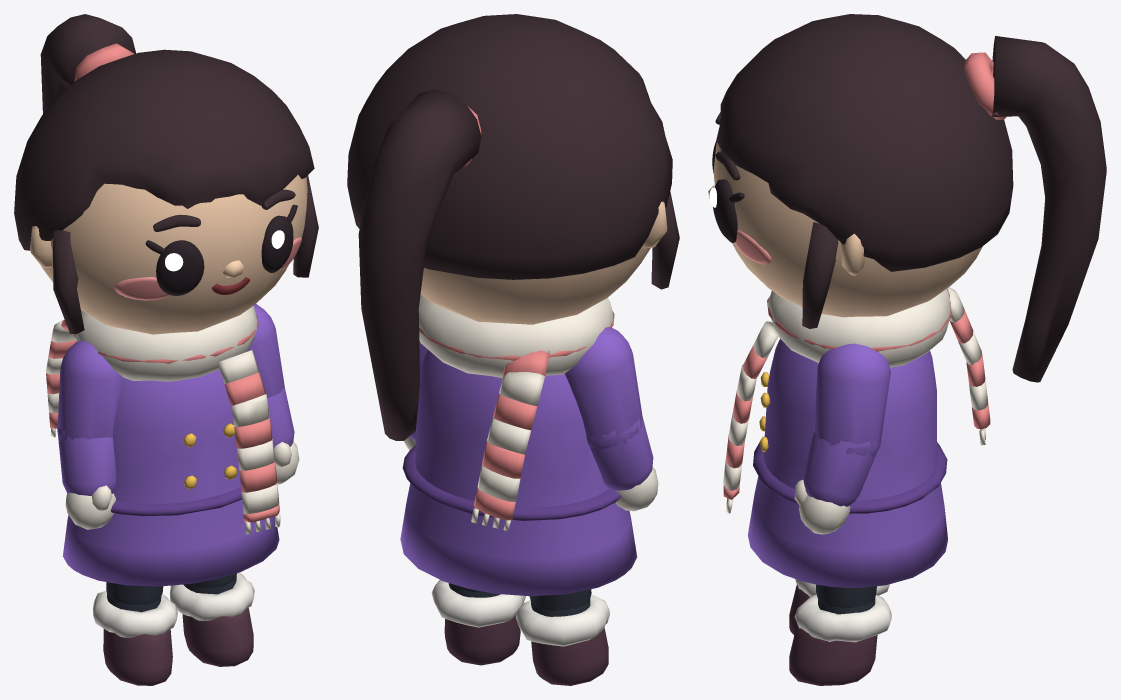
The model's file is npc_teen_girl.glb.
3 views of the same model, side by side, from view 1: azimuth 30°, elevation 25°; view 2: azimuth 150°, elevation 25°; view 3: azimuth 270°, elevation 25° (orthographic). The views are drawn at different scales.
Visible parts, largest first — view 1: head_S_body, spine_S_body, chest_S_body, knee_R_S_body, knee_L_S_body, uarm_R, head_S_eye_dot, farm_R, uarm_L, hand_R_S_body, head_S_cheek_blush, farm_L (+3 smaller); view 2: head_S_body, spine_S_body, chest_S_body, knee_R_S_body, uarm_R, knee_L_S_body, farm_R, hand_R_S_body, thigh_R; view 3: head_S_body, spine_S_body, chest_S_body, knee_L_S_body, uarm_L, farm_L, hand_L_S_body, head_S_eye_dot, thigh_L, knee_R_S_body, head_S_cheek_blush.
Part boxes in pixels (<box>): head_S_body: <box>14,14,318,334</box>; spine_S_body: <box>63,369,279,586</box>; chest_S_body: <box>46,305,280,534</box>; knee_R_S_body: <box>93,591,177,685</box>; knee_L_S_body: <box>169,572,254,666</box>; uarm_R: <box>57,340,123,440</box>; head_S_eye_dot: <box>145,204,297,295</box>; farm_R: <box>57,428,116,495</box>; uarm_L: <box>247,304,284,398</box>; hand_R_S_body: <box>65,485,115,529</box>; head_S_cheek_blush: <box>114,237,301,300</box>; farm_L: <box>267,387,294,448</box>; head_S_body: <box>347,14,679,440</box>; spine_S_body: <box>400,350,636,596</box>; chest_S_body: <box>418,294,614,531</box>; knee_R_S_body: <box>515,594,609,685</box>; uarm_R: <box>565,327,642,450</box>; knee_L_S_body: <box>431,580,525,665</box>; farm_R: <box>586,417,653,490</box>; hand_R_S_body: <box>615,467,658,511</box>; thigh_R: <box>529,589,591,611</box>; head_S_body: <box>708,14,1106,382</box>; spine_S_body: <box>748,338,947,587</box>; chest_S_body: <box>723,287,990,513</box>; knee_L_S_body: <box>789,594,891,685</box>; uarm_L: <box>814,343,890,456</box>; farm_L: <box>803,431,881,506</box>; hand_L_S_body: <box>794,479,850,534</box>; head_S_eye_dot: <box>709,141,744,242</box>; thigh_L: <box>816,584,876,608</box>; knee_R_S_body: <box>789,579,889,635</box>; head_S_cheek_blush: <box>734,230,771,264</box>.
Size of what is drawn, in the model's own units: 0.6264 by 1.28 by 0.7363.
